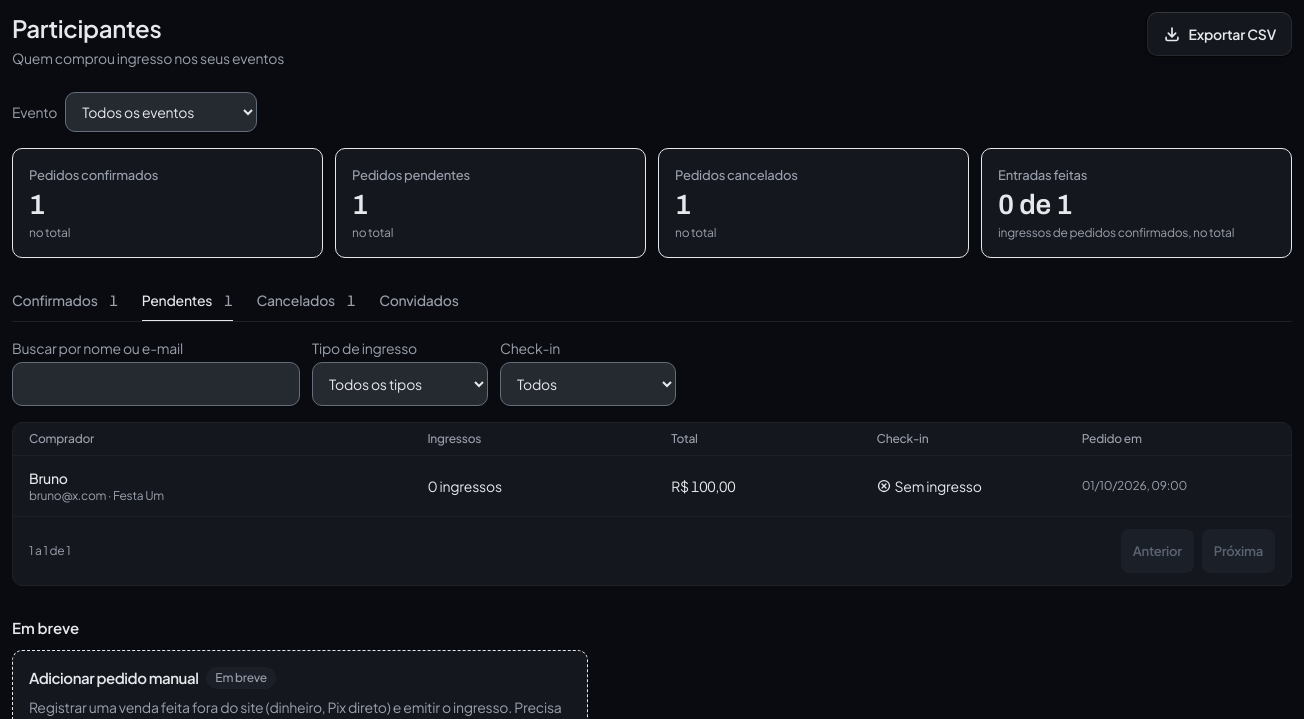
Test: tela Participantes › abas trocam a lista (estado na URL), busca filtra e Convidados é Em breve
The image size is (1304, 719).
Check: the text "Bruno" is shown, box [29,469,68,487]
Check: the text "Ana" is not shown
Click the tab "Confirmados 1".
click(65, 300)  # box [12,278,118,322]
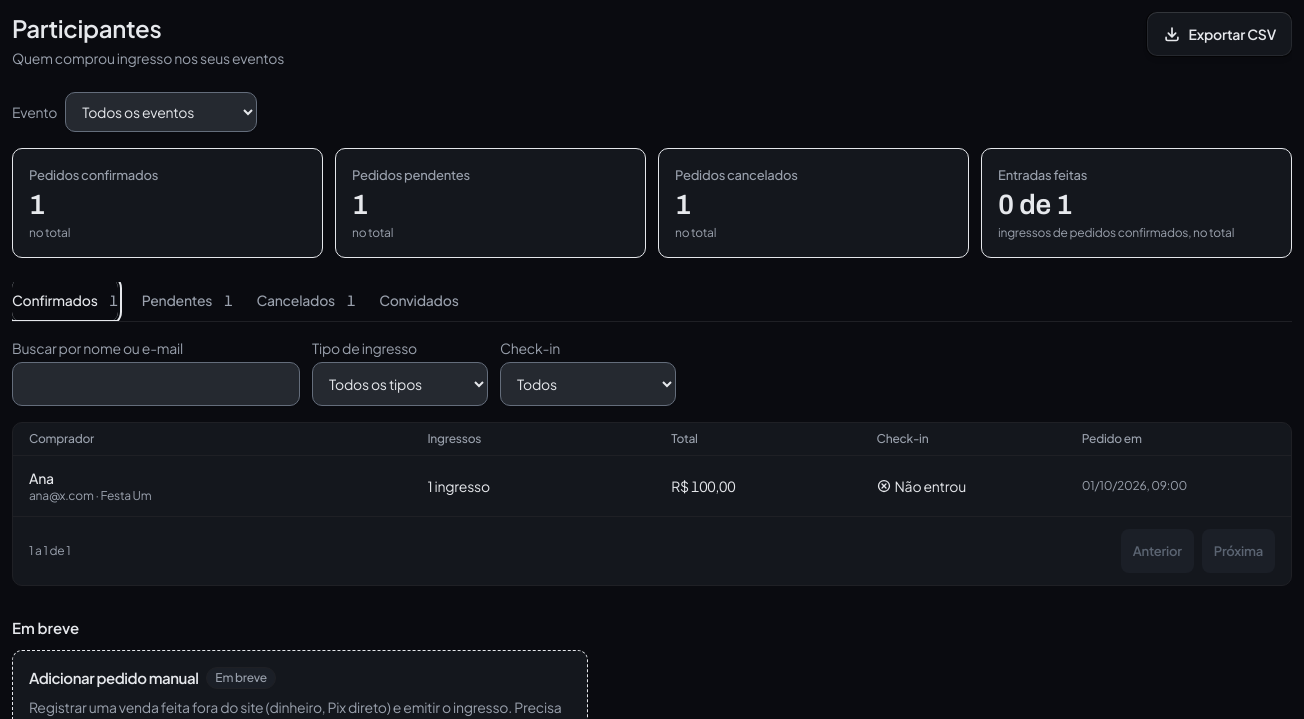
Check: the text "Ana" is shown, box [29,469,54,487]
Type "zzz" into the search field labelled "Buscar por nome ou e-mail".
click(156, 384); type("zzz")  # box [12,362,300,406]
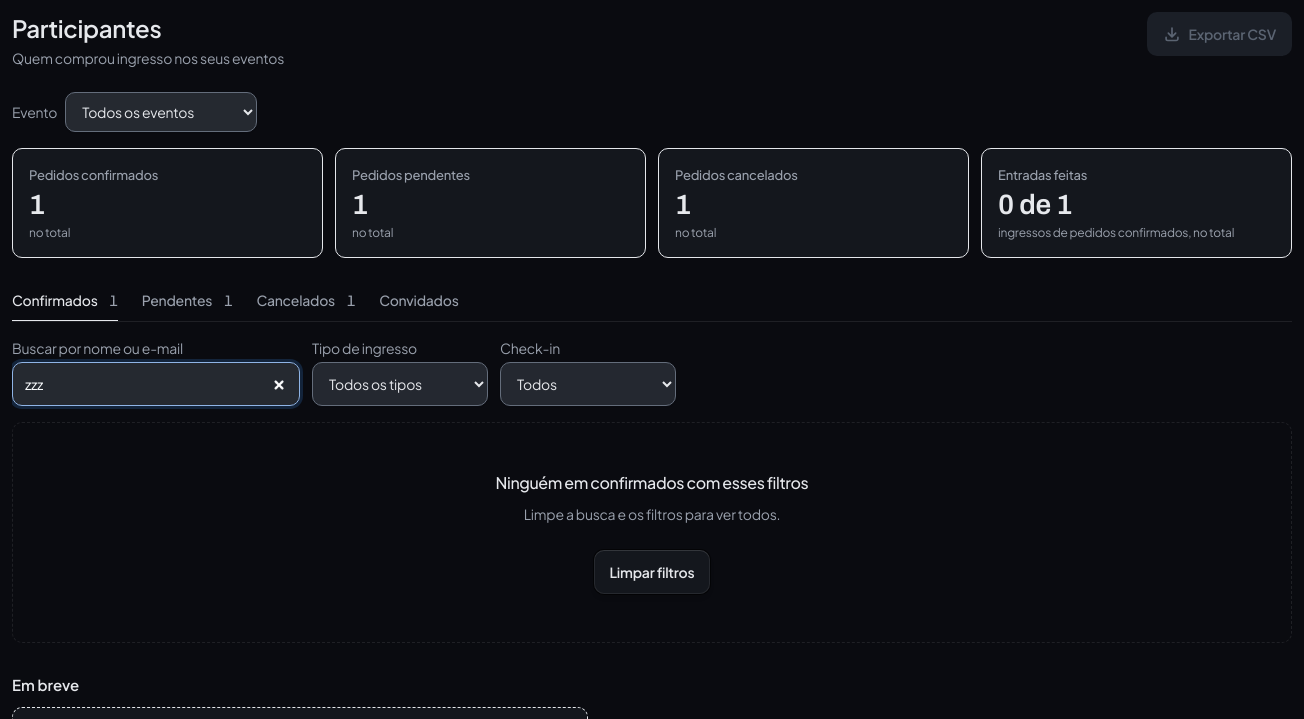
Check: the text "Ninguém em confirmados com esses filtros" is shown, box [496,471,808,495]
Click the tab "Convidados".
click(419, 300)  # box [379,278,459,322]
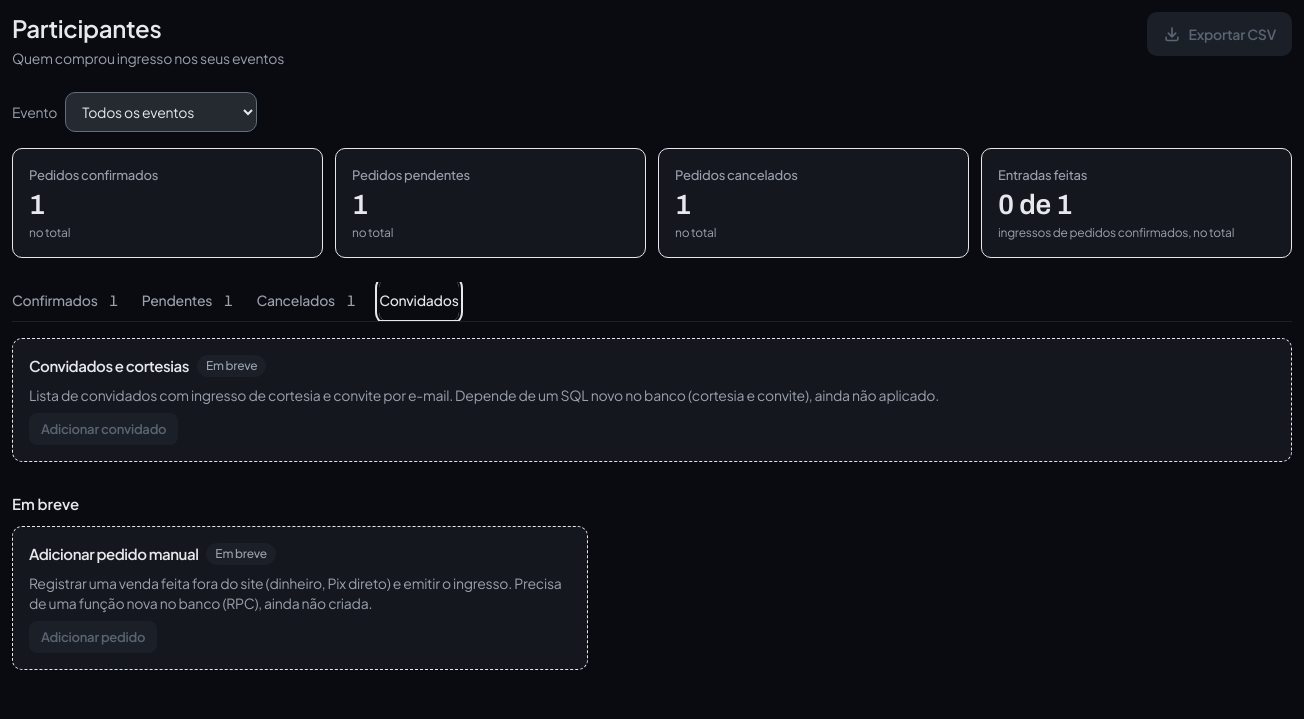
Check: the heading "Convidados e cortesias" is shown, box [29,356,189,376]
Check: the button "Adicionar convidado" is disabled, box [29,413,178,445]
